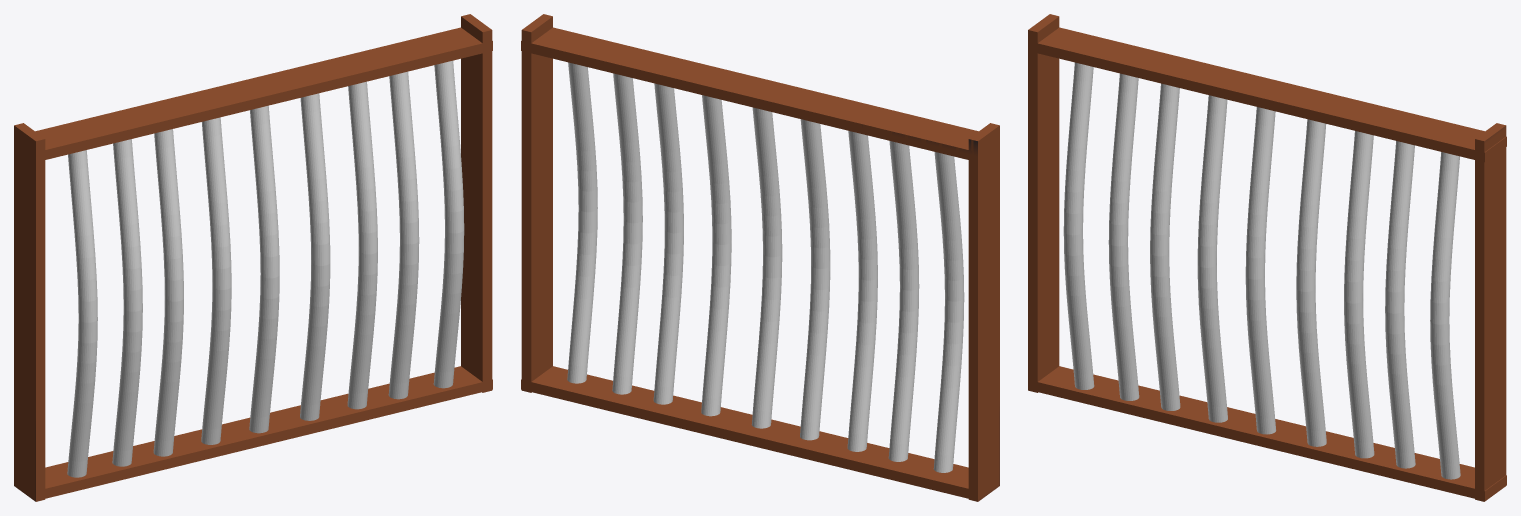
The model's file is Window bars.fbx.
The picture shows the model from 3 angles, left to right: view 1: azimuth 30°, elevation 25°; view 2: azimuth 150°, elevation 25°; view 3: azimuth 330°, elevation 25°; orthographic projection.
Parts seen in each view (by area): view 1: Cube.001; view 2: Cube.001; view 3: Cube.001.
Boxes of the visible parts, box(x1,y1,x2,y2) form: Cube.001: box(14, 14, 492, 501); Cube.001: box(521, 14, 999, 501); Cube.001: box(1028, 14, 1506, 501).
Bounding box in the file's own units: 1375 × 1037 × 157.
Materials: 2 (1 with a texture image).
